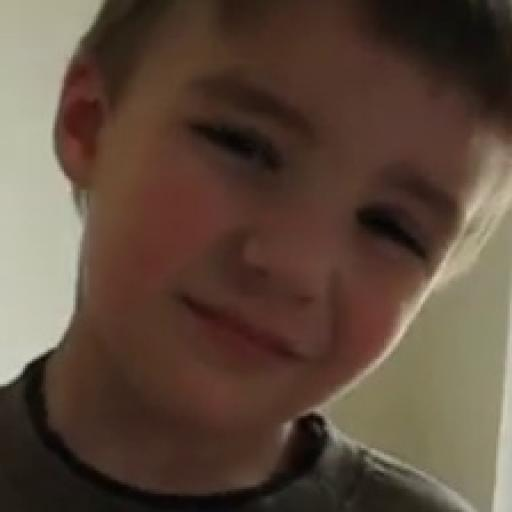Autism: (63, 4, 504, 449)
